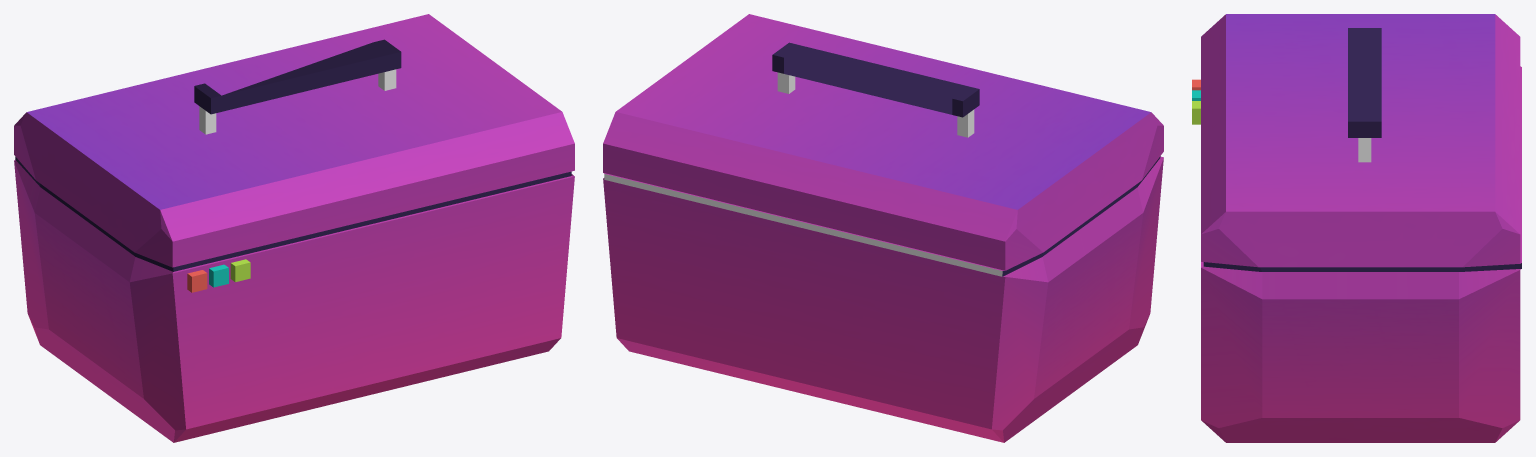
File: SmallBagJointtest.fbx
The picture shows the model from 3 angles, left to right: view 1: azimuth 30°, elevation 25°; view 2: azimuth 150°, elevation 25°; view 3: azimuth 270°, elevation 25°; orthographic projection.
Visible parts, largest first — view 1: SmallBag; view 2: SmallBag; view 3: SmallBag.
Boxes of the visible parts, x1,y1,x2,y2 form: SmallBag: (14, 14, 574, 442); SmallBag: (603, 14, 1163, 442); SmallBag: (1192, 14, 1521, 442).
Size of the model in its own units: 39.04 by 58.41 by 36.36.
